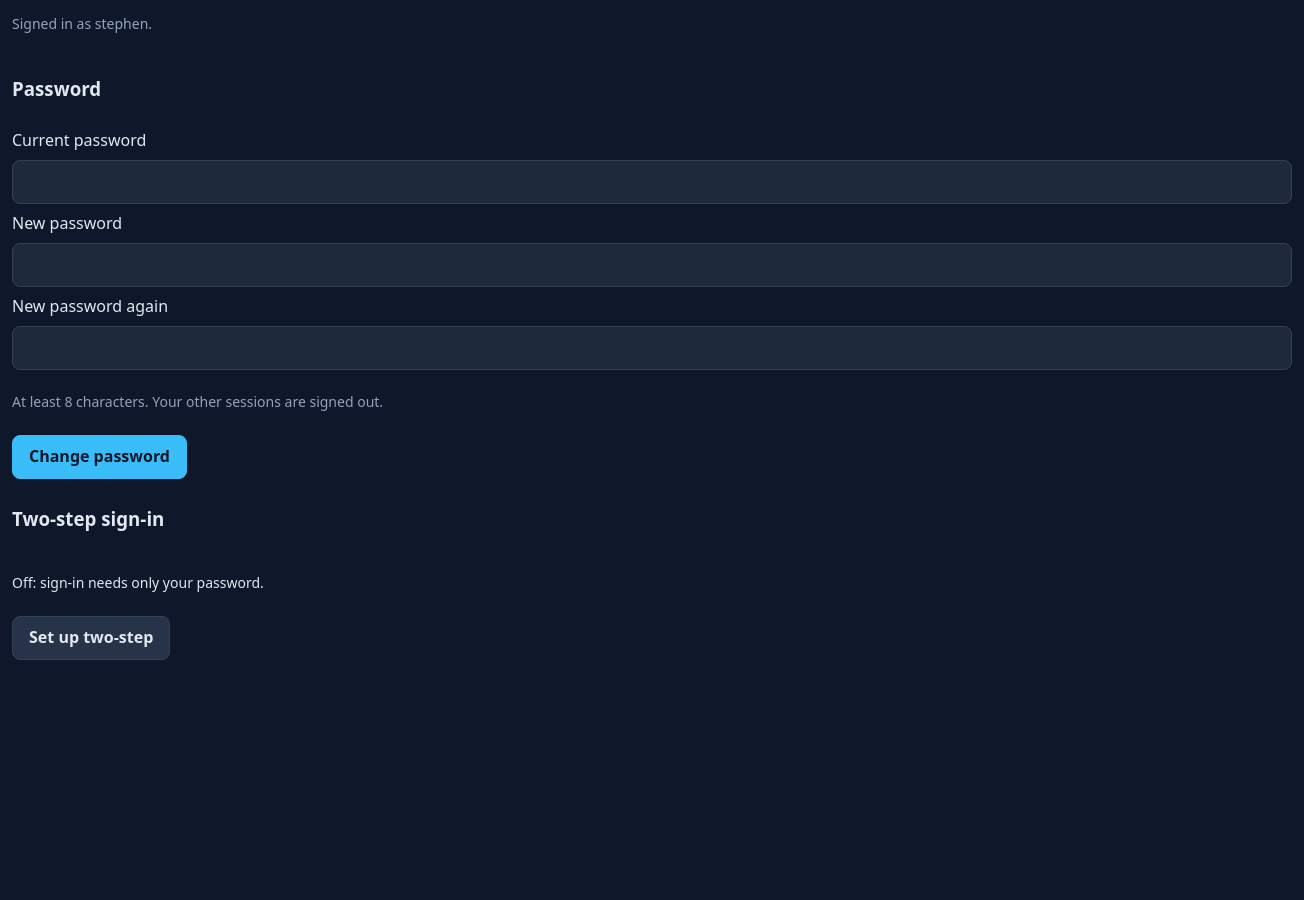
it: Security: wrong credentials (403 bad_credentials, 422) › two-step setup shows the server's 403 message
Click the button "Set up two-step" at (91, 638), box [12, 616, 170, 660]
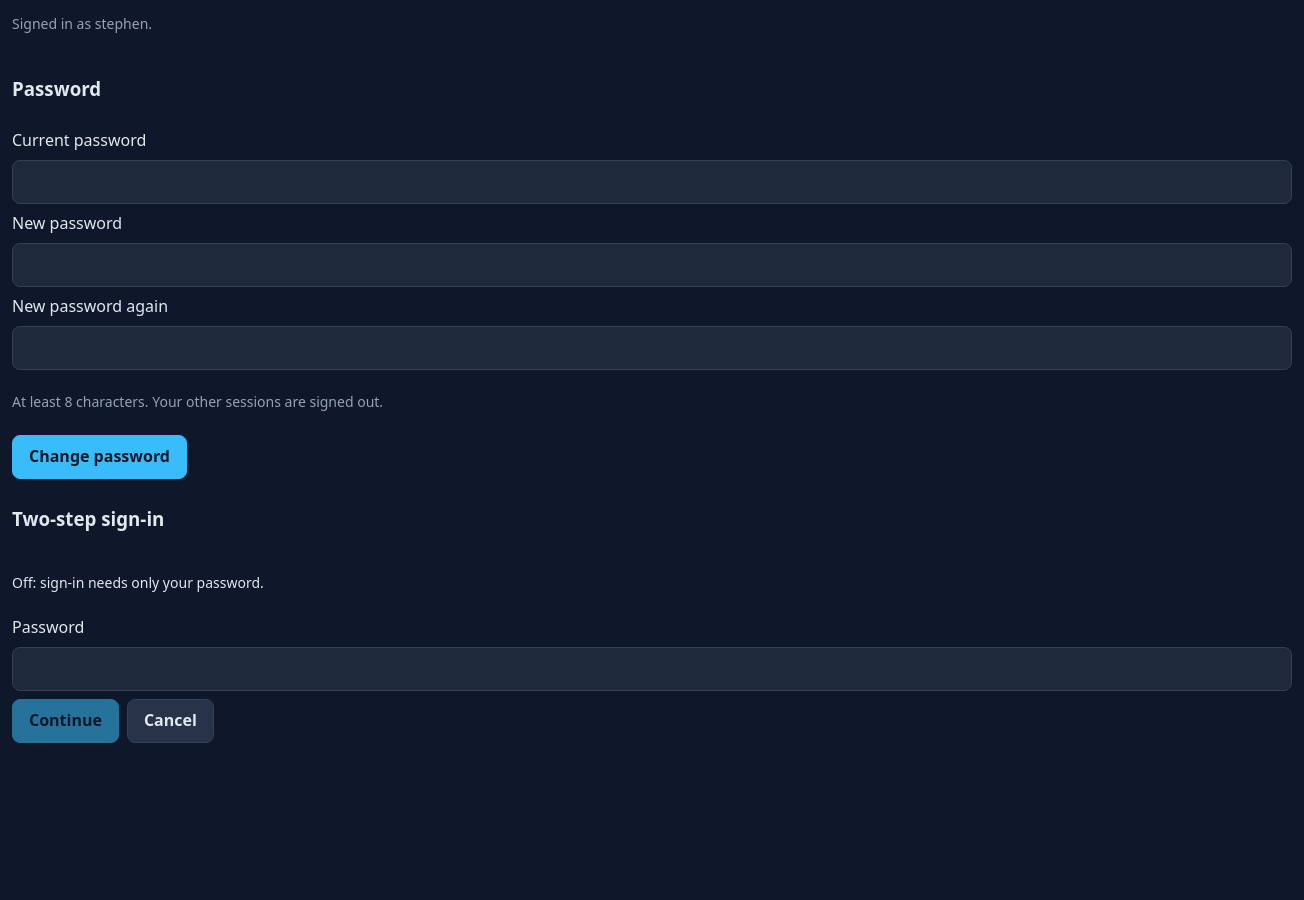
Type "wrong-password" into the password field labelled "Password" at (652, 669), box [12, 647, 1292, 691]
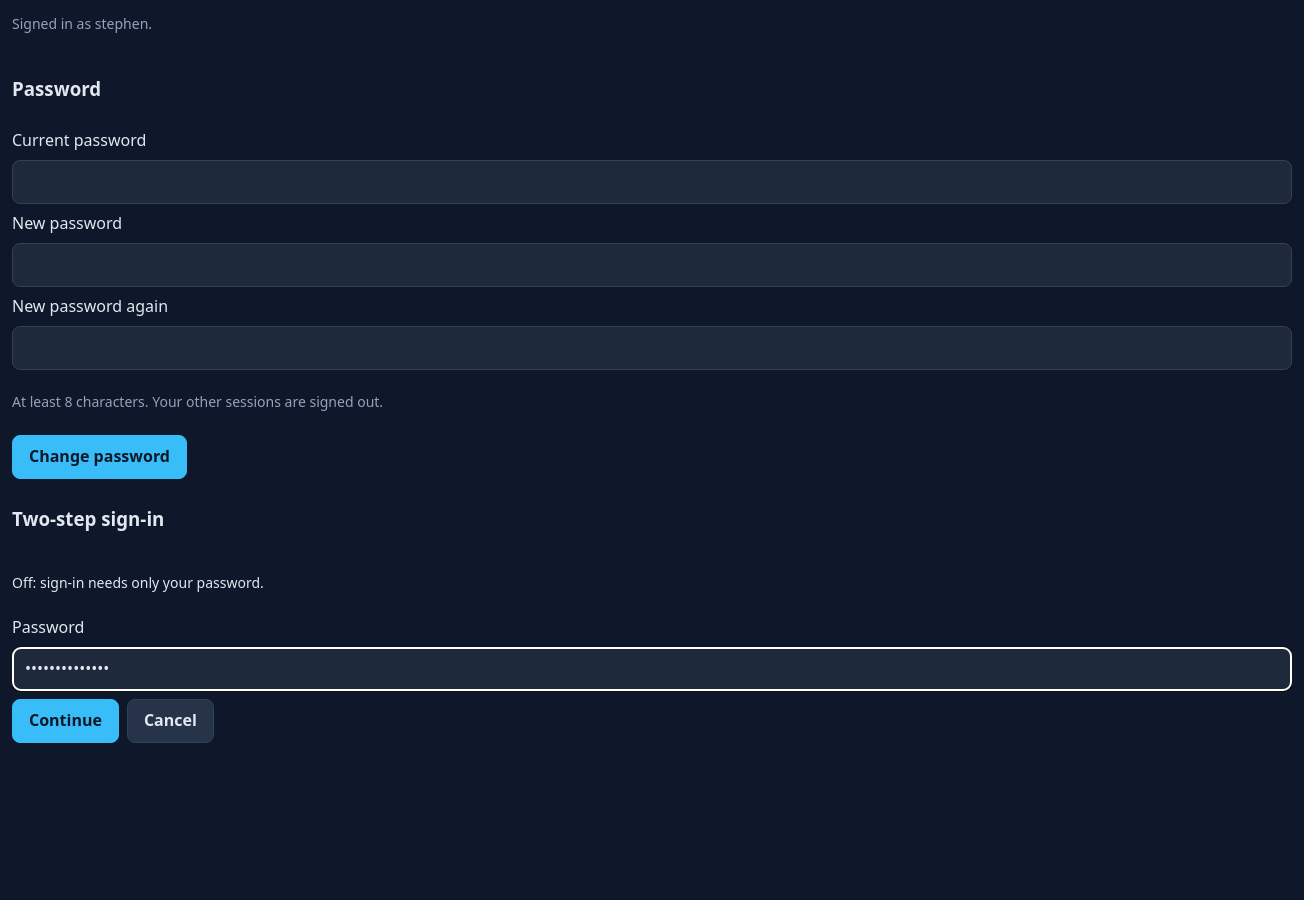
Click the button "Continue" at (65, 721), box [12, 699, 119, 743]
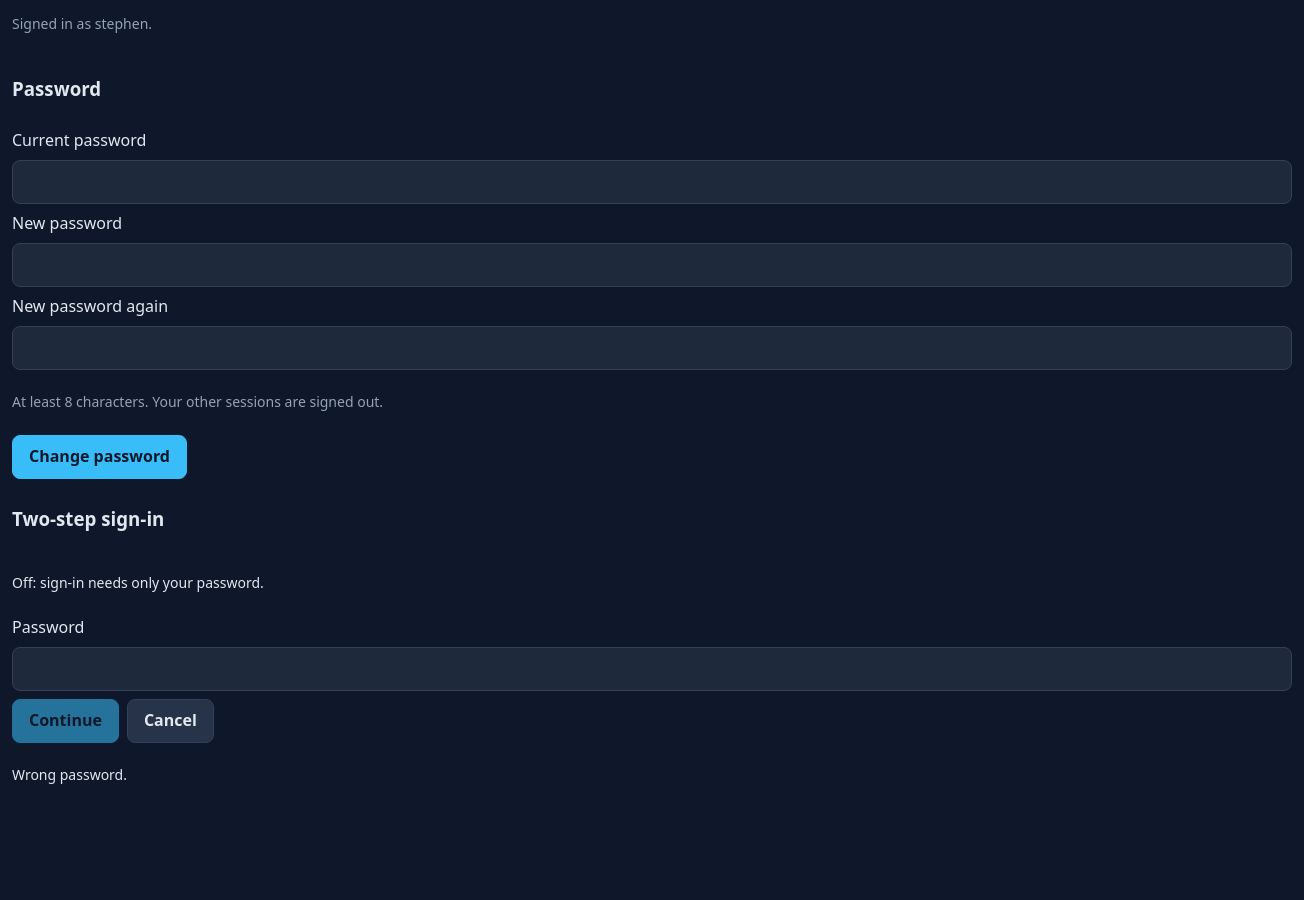
Now the message reads "Wrong password.", box [12, 765, 127, 784]
Now the password field labelled "Password" is empty, box [12, 647, 1292, 691]
